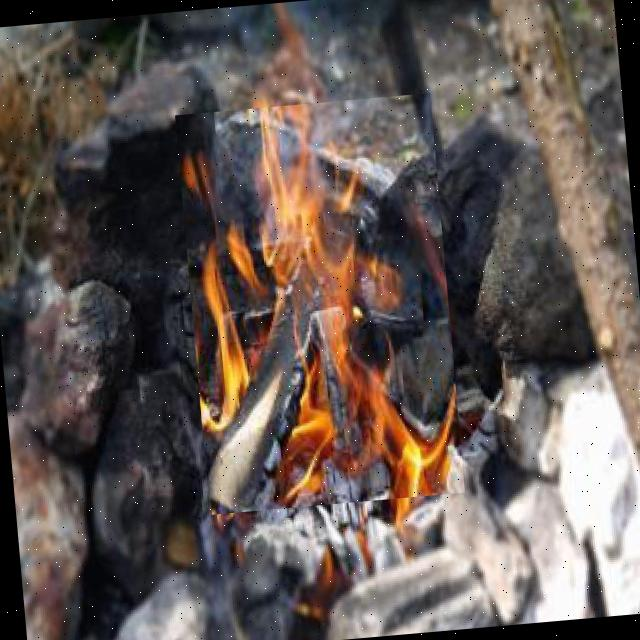fire: (174, 92, 464, 514)
